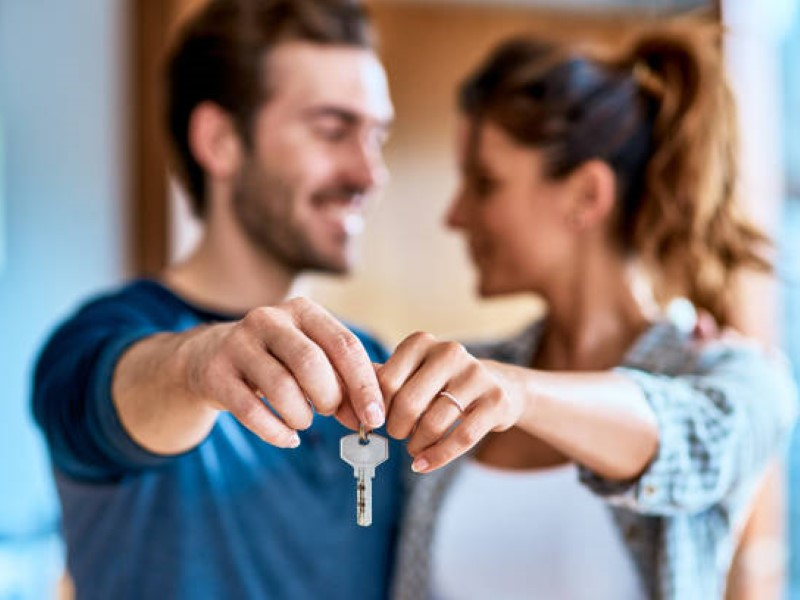key: (336, 427, 392, 530)
